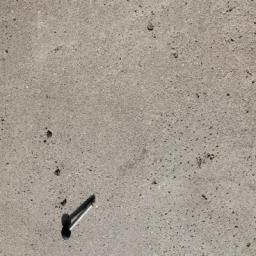FOD: (59, 197, 103, 242)
